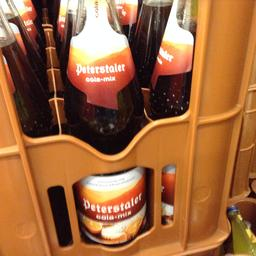soda: (60, 0, 146, 248), (148, 0, 190, 225)
